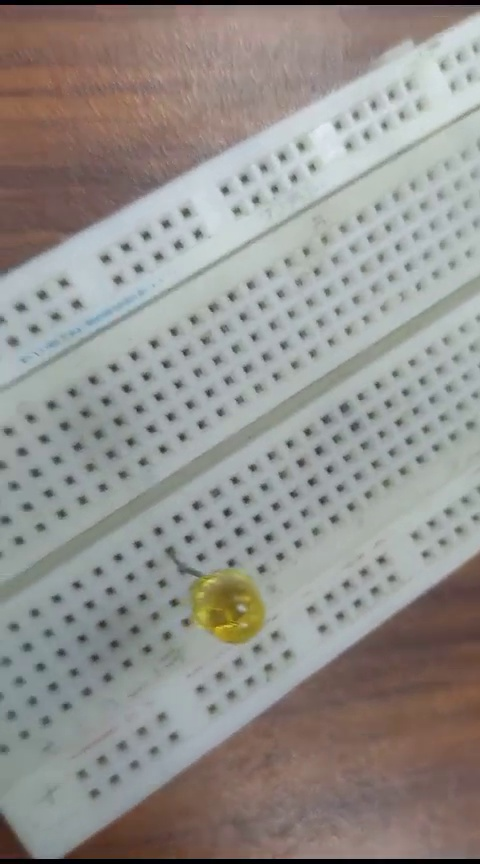LED: (158, 523, 264, 649)
